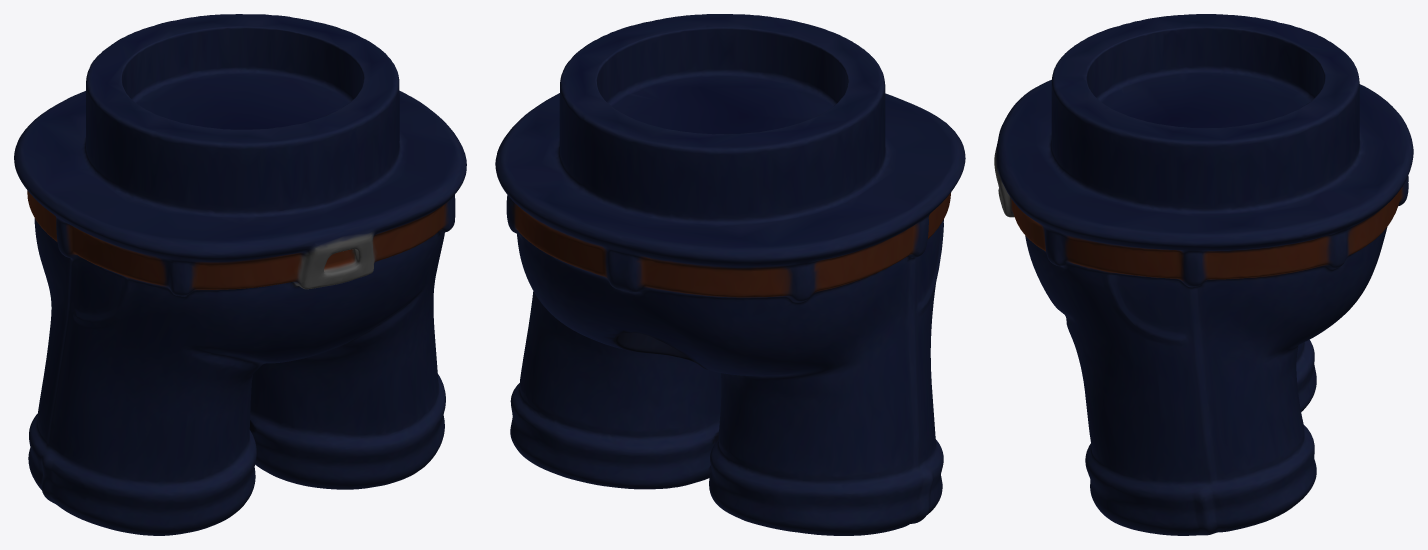
The model's file is Short.glb.
The picture shows the model from 3 angles, left to right: view 1: azimuth 30°, elevation 25°; view 2: azimuth 150°, elevation 25°; view 3: azimuth 270°, elevation 25°; orthographic projection. The views are drawn at different scales.
Visible parts, largest first — view 1: Short; view 2: Short; view 3: Short.
Part boxes in pixels (x1=…): Short: x1=14, y1=14, x2=466, y2=535; Short: x1=495, y1=14, x2=965, y2=535; Short: x1=994, y1=14, x2=1413, y2=535.
Size of the model in its own units: 4.12 by 3.95 by 3.9.
